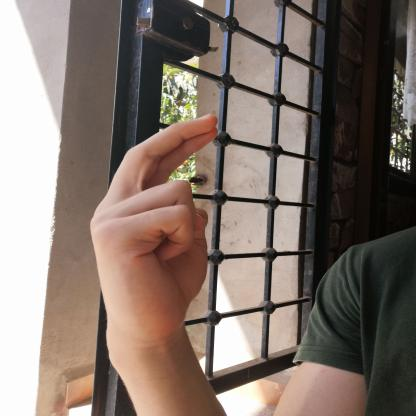ZAY: (76, 105, 233, 343)
